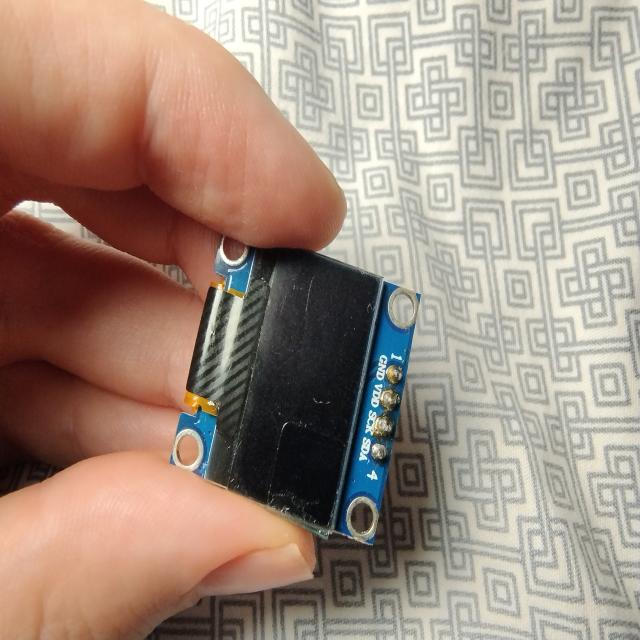oled: (169, 218, 425, 546)
